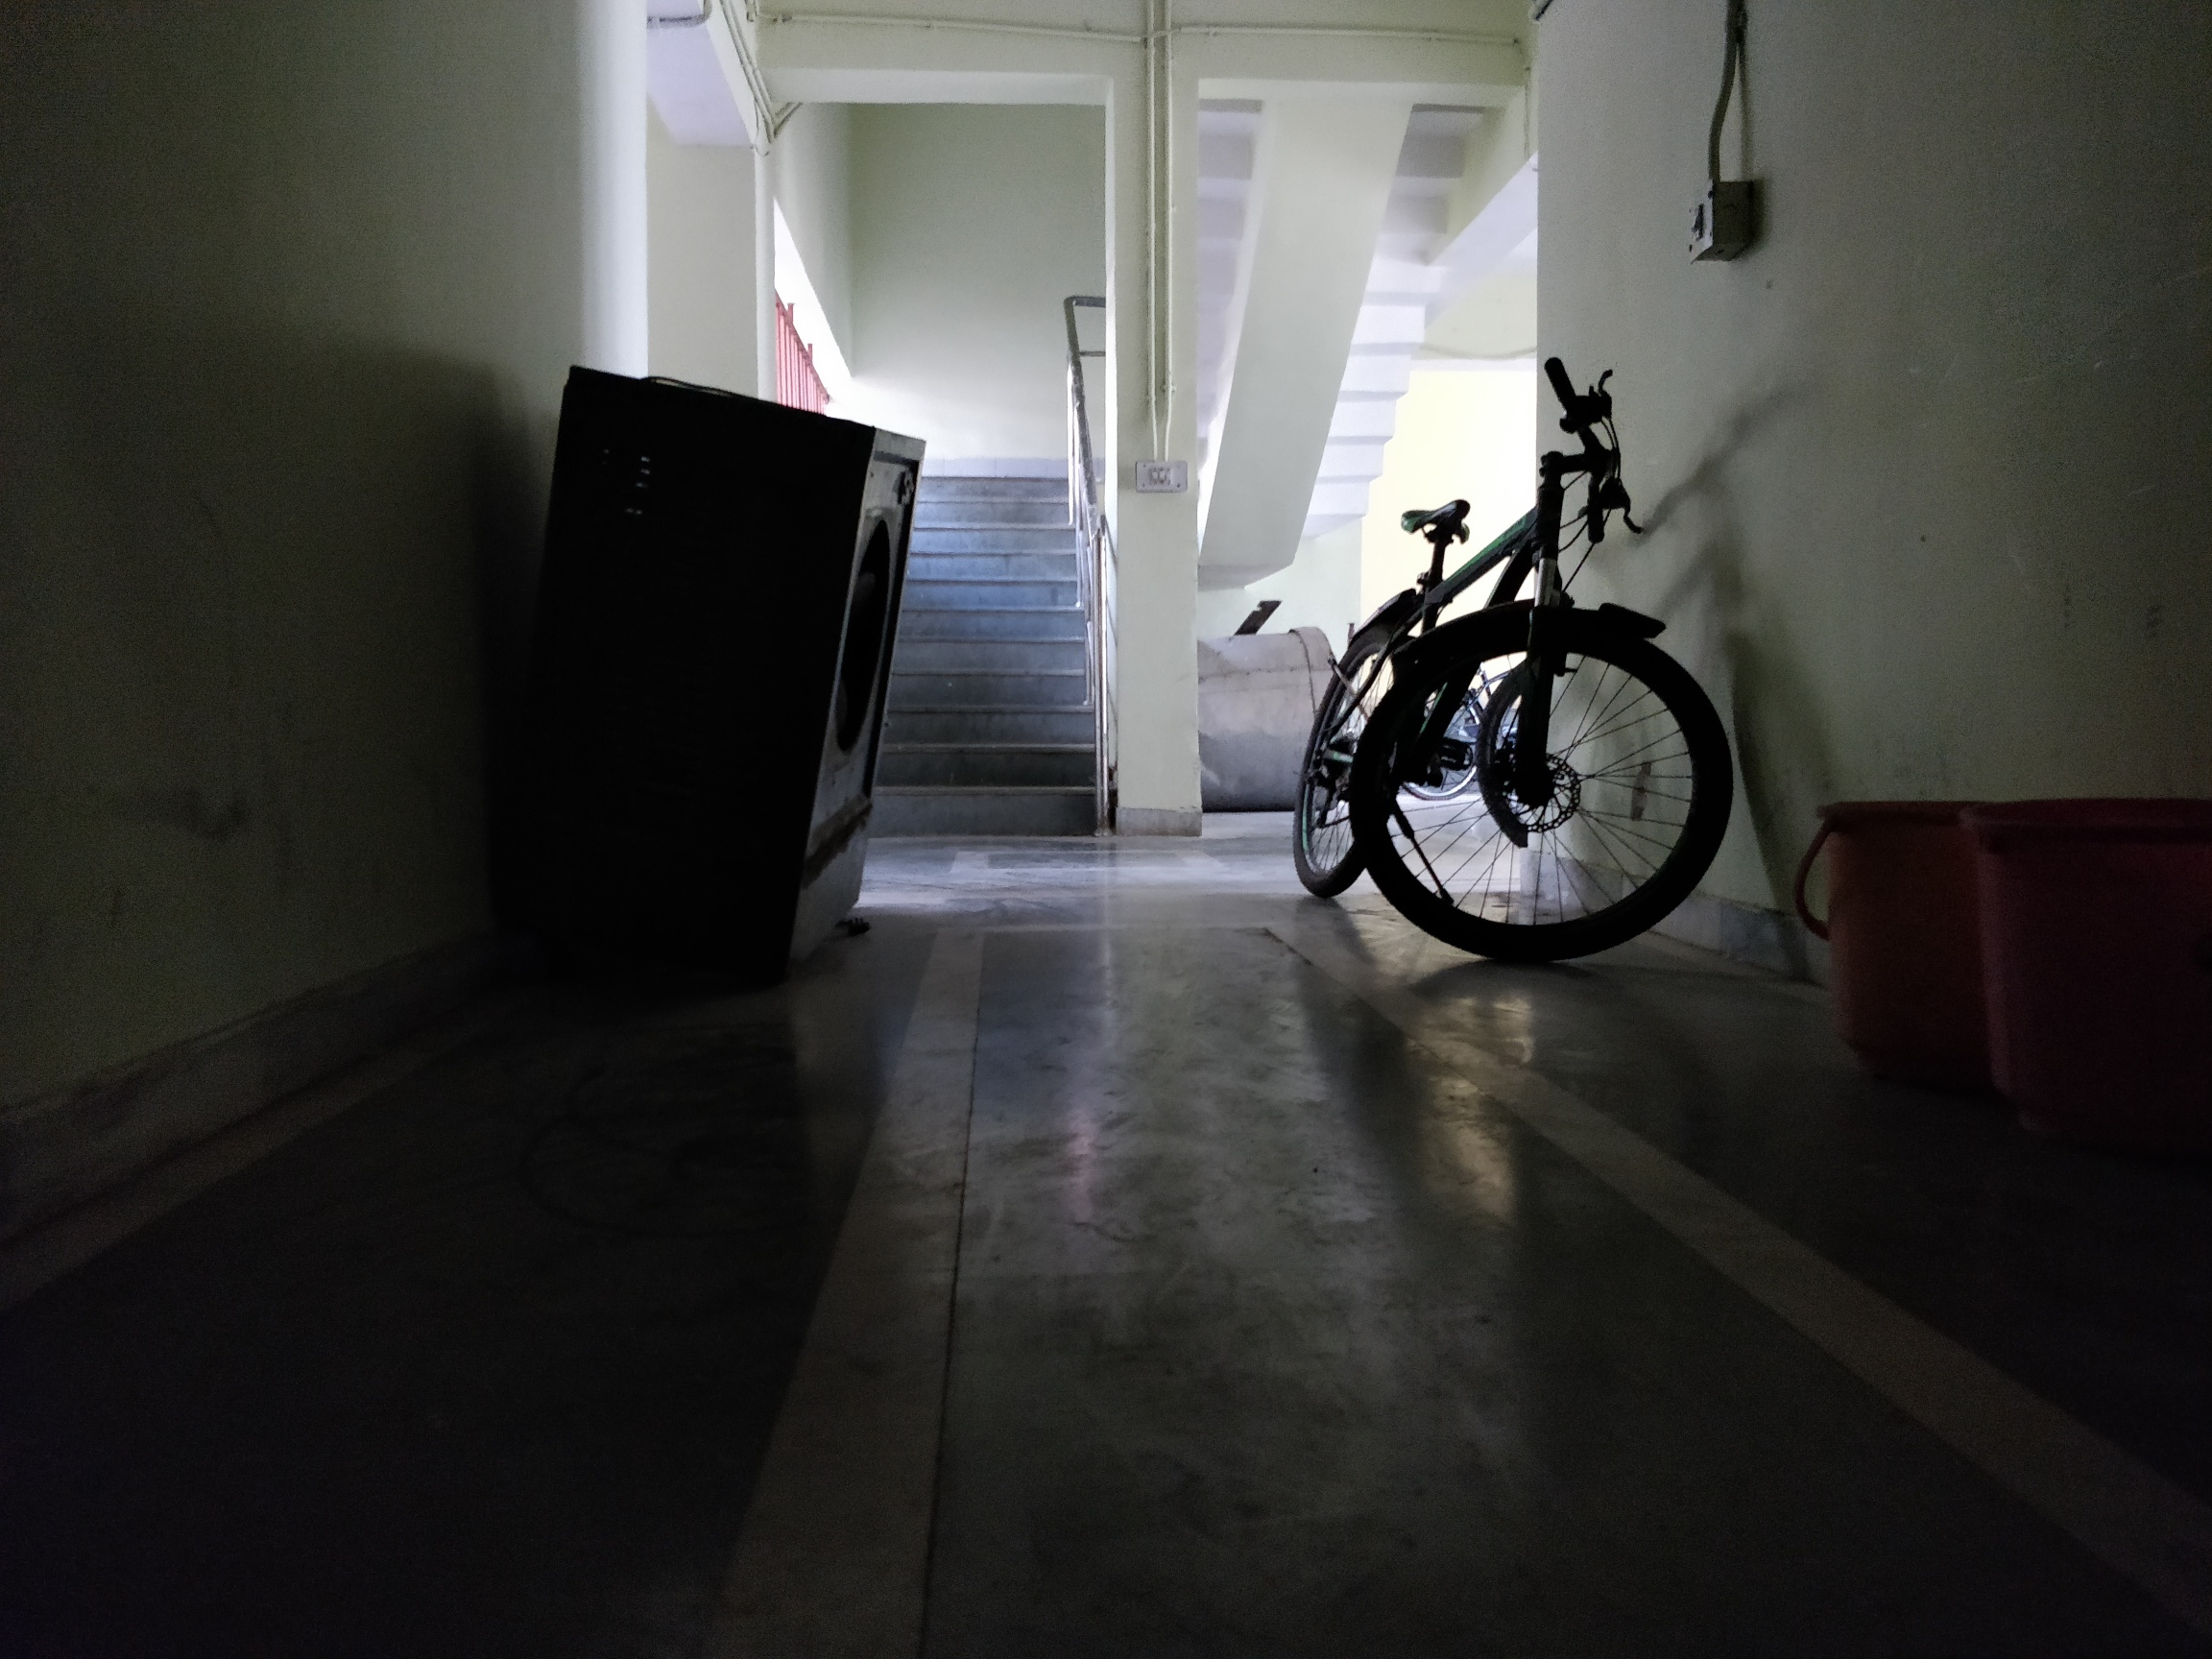stairs_up: (914, 465, 1134, 880)
